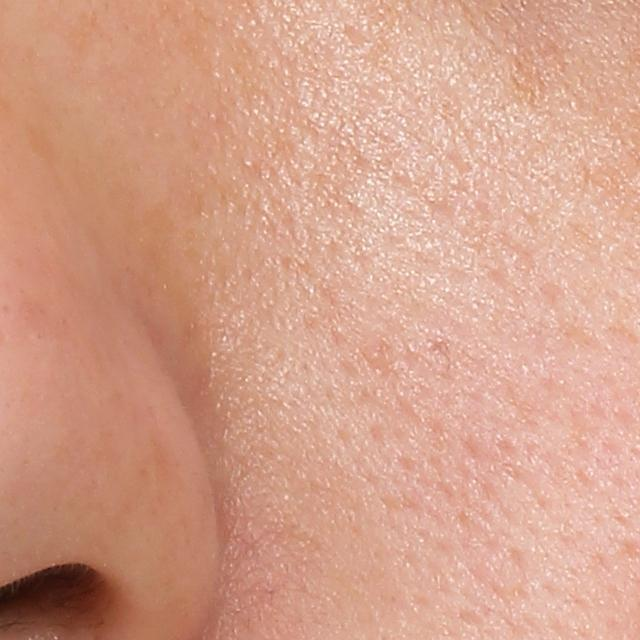melasma: (504, 35, 568, 121)
